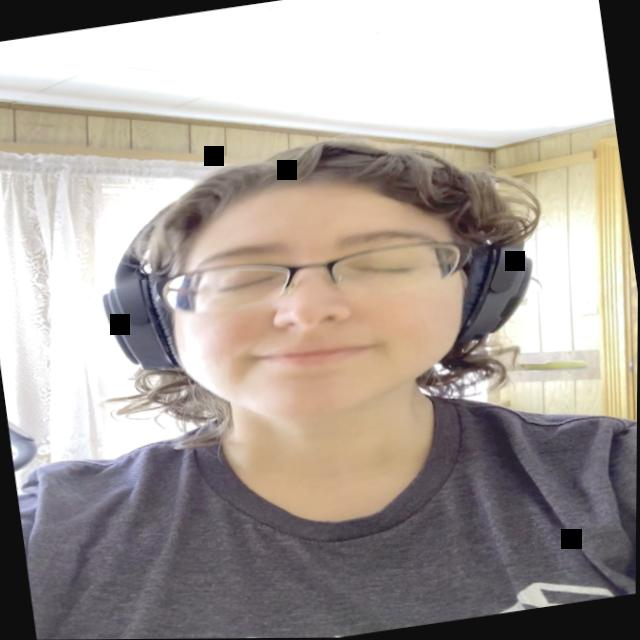NO-Mask: (151, 161, 495, 440)
